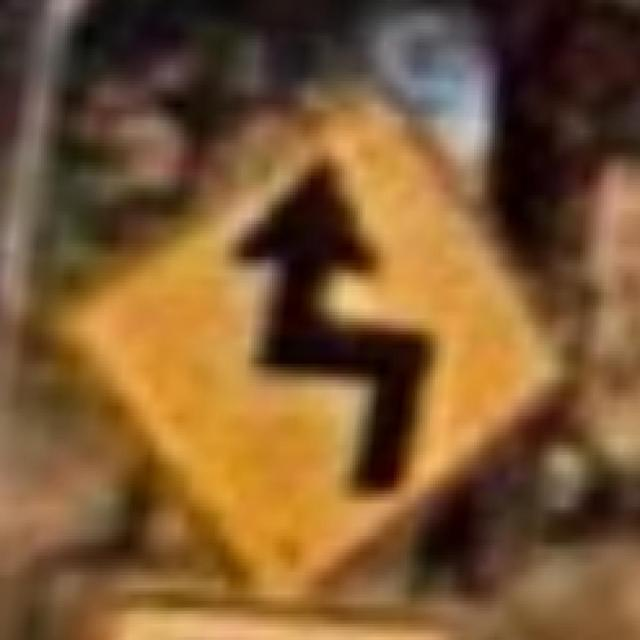Tikungan Ganda Pertama Ke Kiri: (52, 62, 575, 601)
